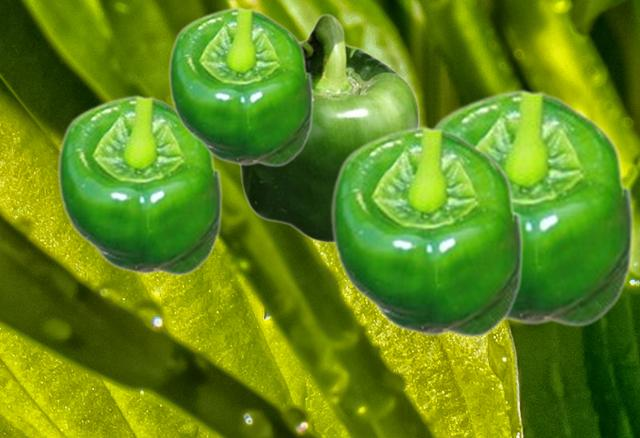bell_pepper: (430, 88, 634, 326), (237, 13, 419, 243), (329, 125, 523, 337), (56, 94, 222, 275), (167, 6, 313, 166)
